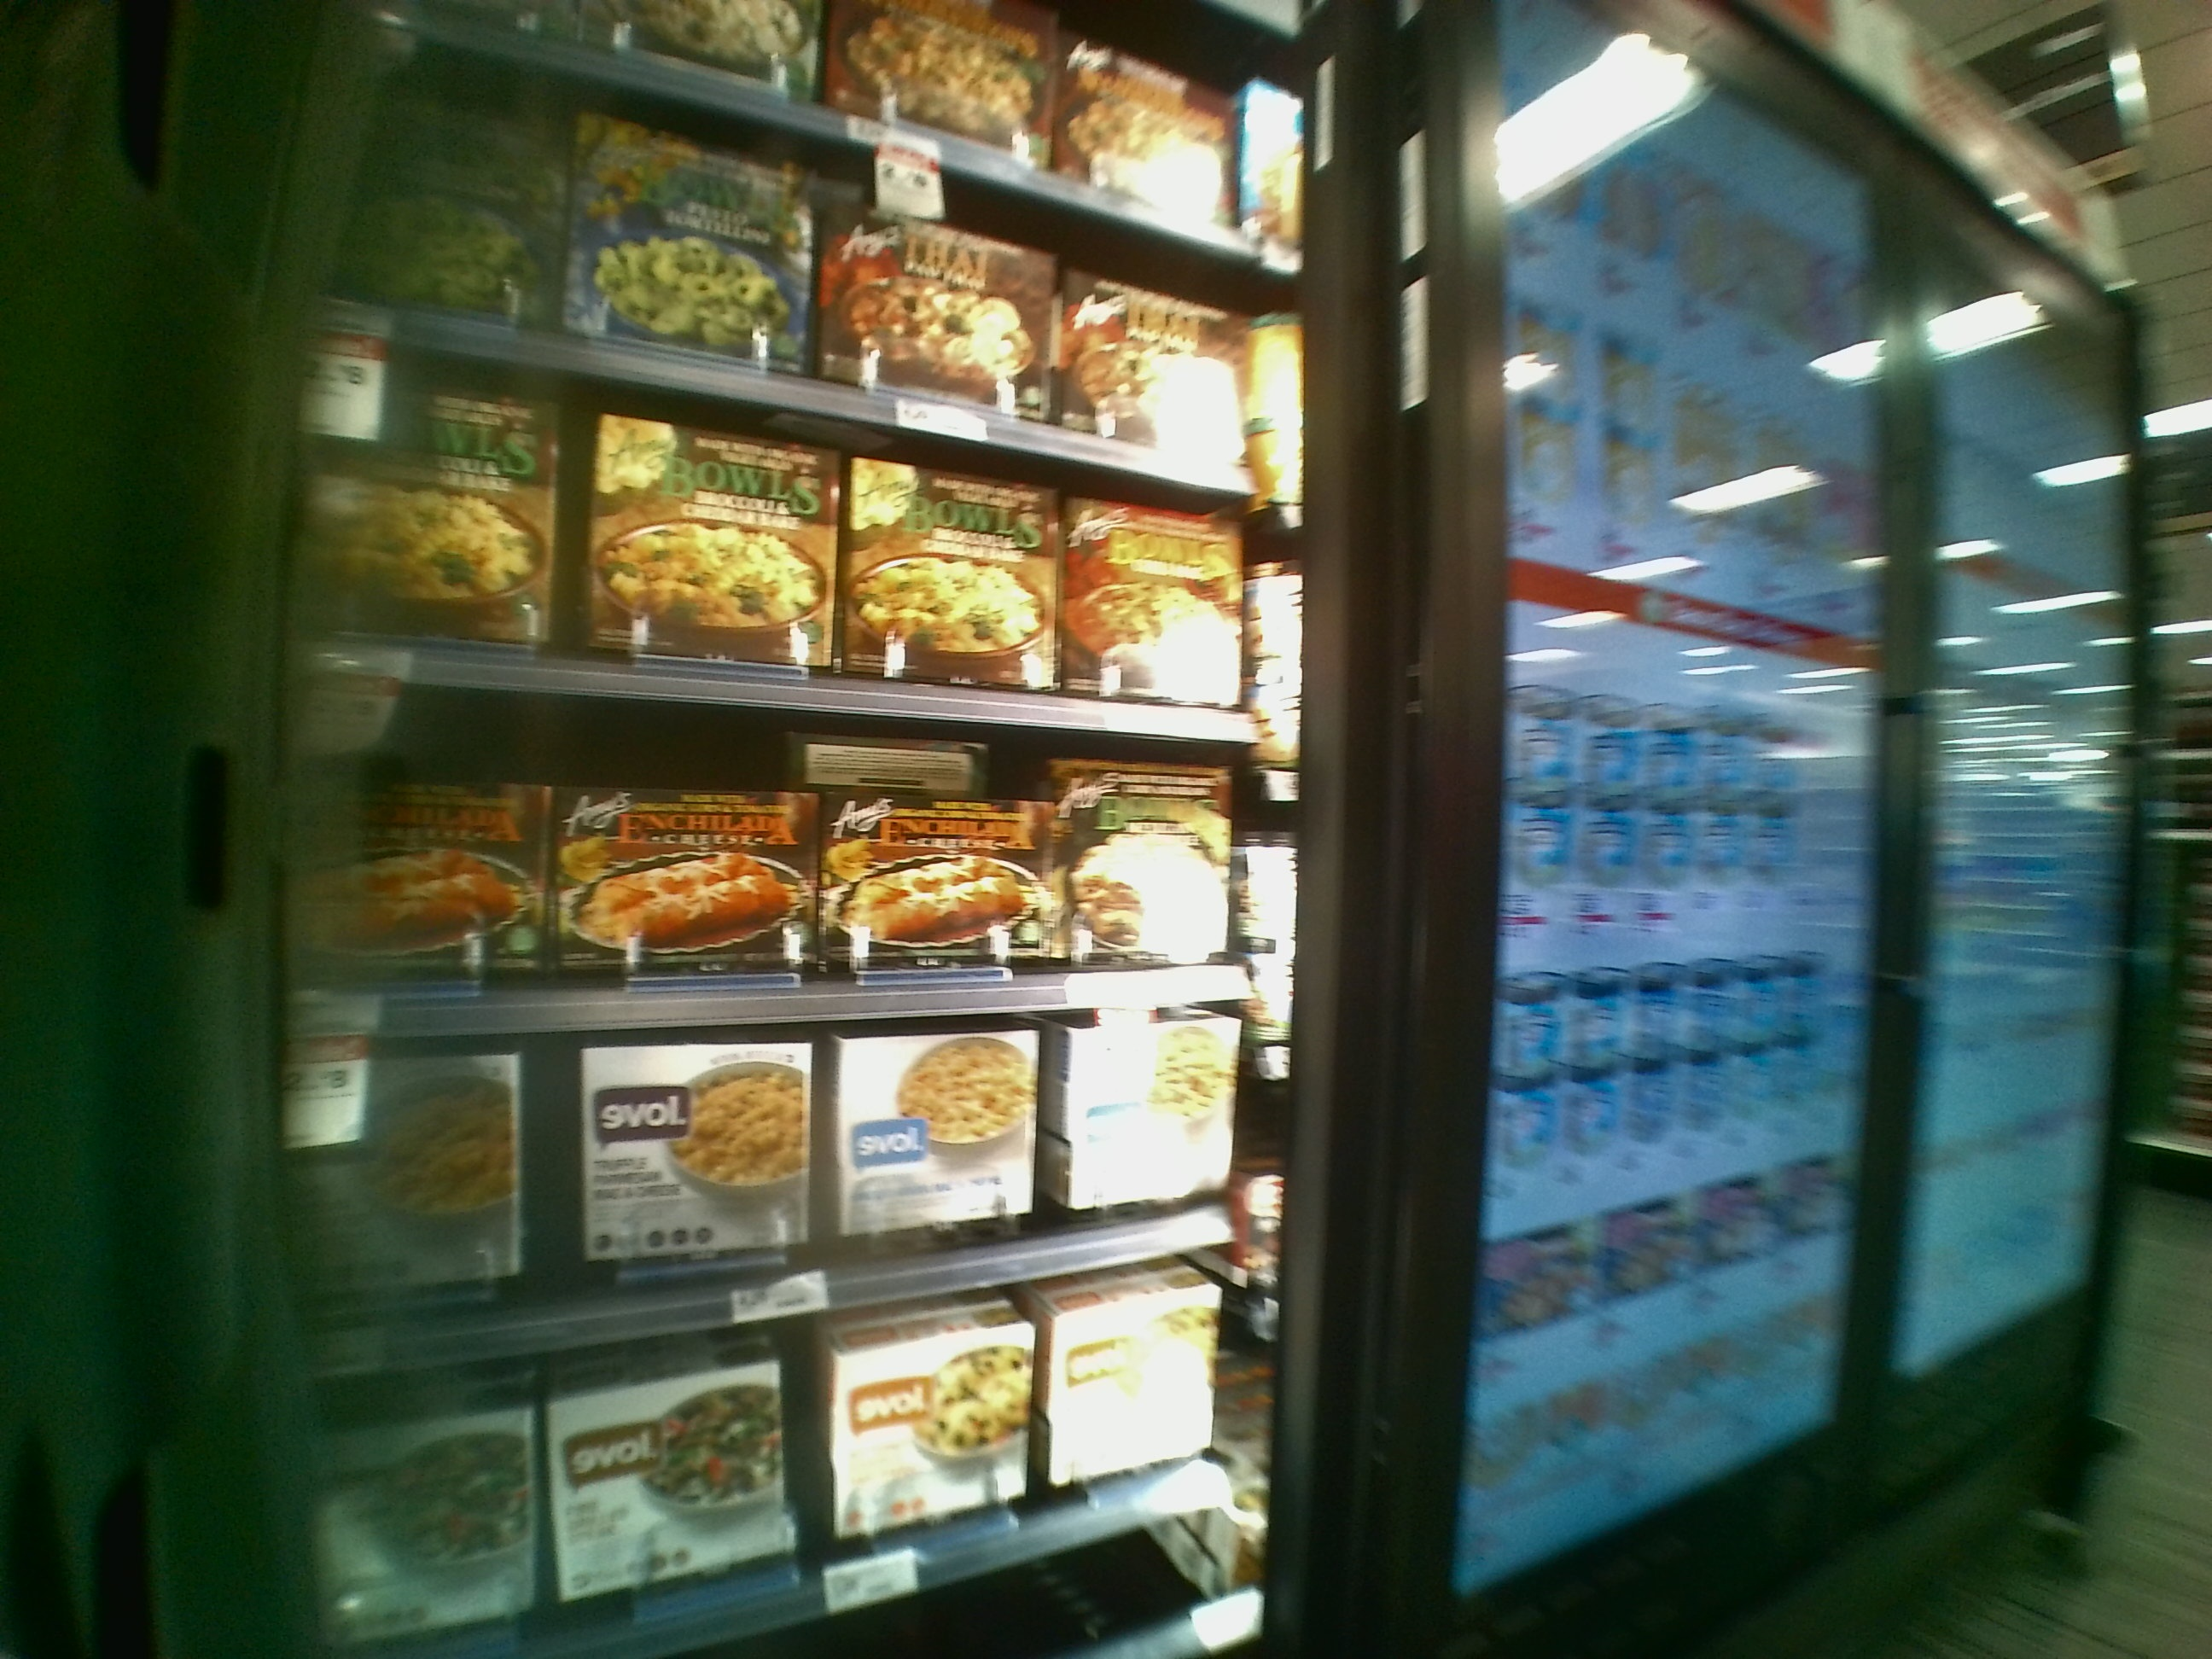shelf: (300, 725, 1285, 1018), (298, 434, 1294, 723), (273, 1037, 1277, 1307)
